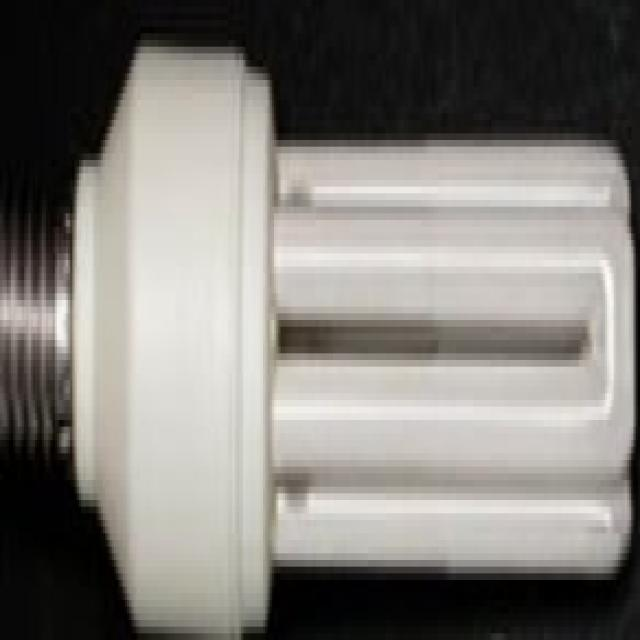electronic: (0, 34, 638, 634)
